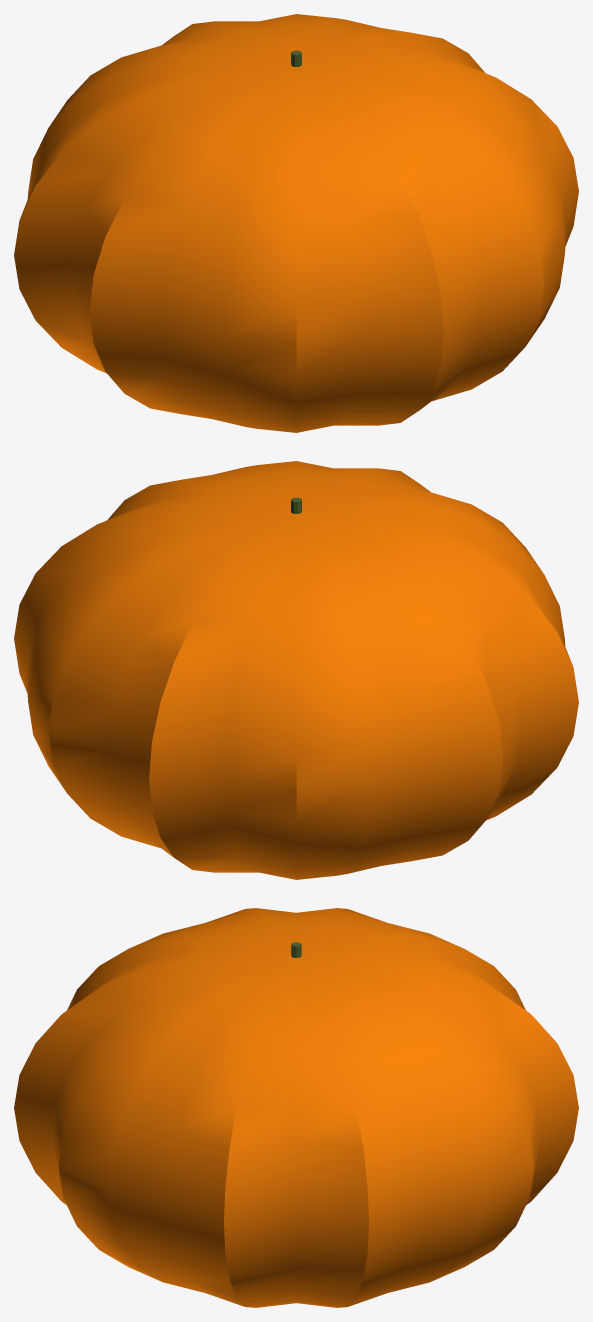
Rendered from Pumpkin.fbx.
3 views of the same model, one above another, from view 1: azimuth 30°, elevation 25°; view 2: azimuth 150°, elevation 25°; view 3: azimuth 270°, elevation 25° (orthographic). The views are drawn at different scales.
Visible parts, largest first — view 1: Pumpkin; view 2: Pumpkin; view 3: Pumpkin.
Boxes of the visible parts, x1,y1,x2,y2 form: Pumpkin: [14, 14, 578, 432]; Pumpkin: [14, 461, 578, 879]; Pumpkin: [14, 908, 578, 1307].
Bounding box in the file's own units: 0.2032 × 0.1307 × 0.212.
